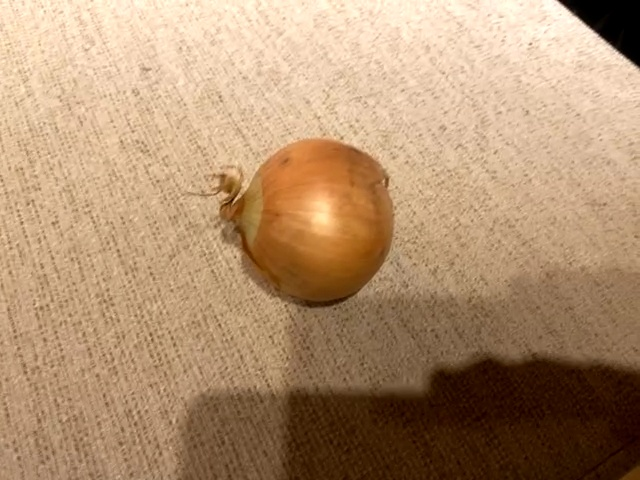onion: (202, 137, 397, 310)
